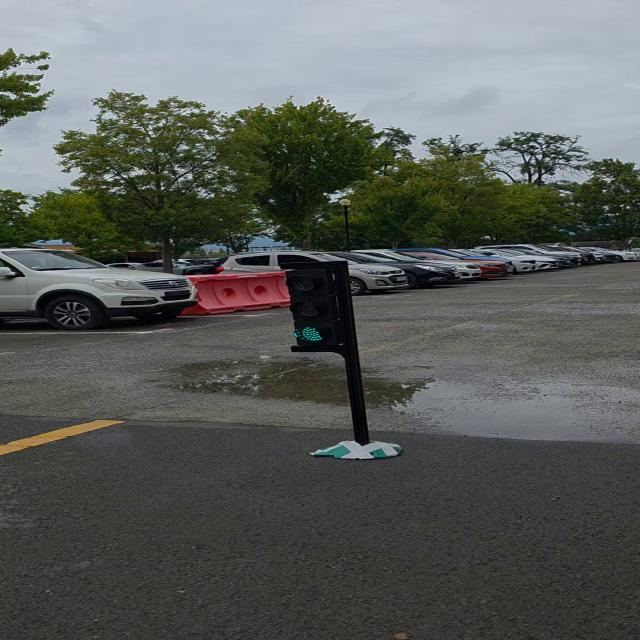green: (278, 258, 362, 355)
